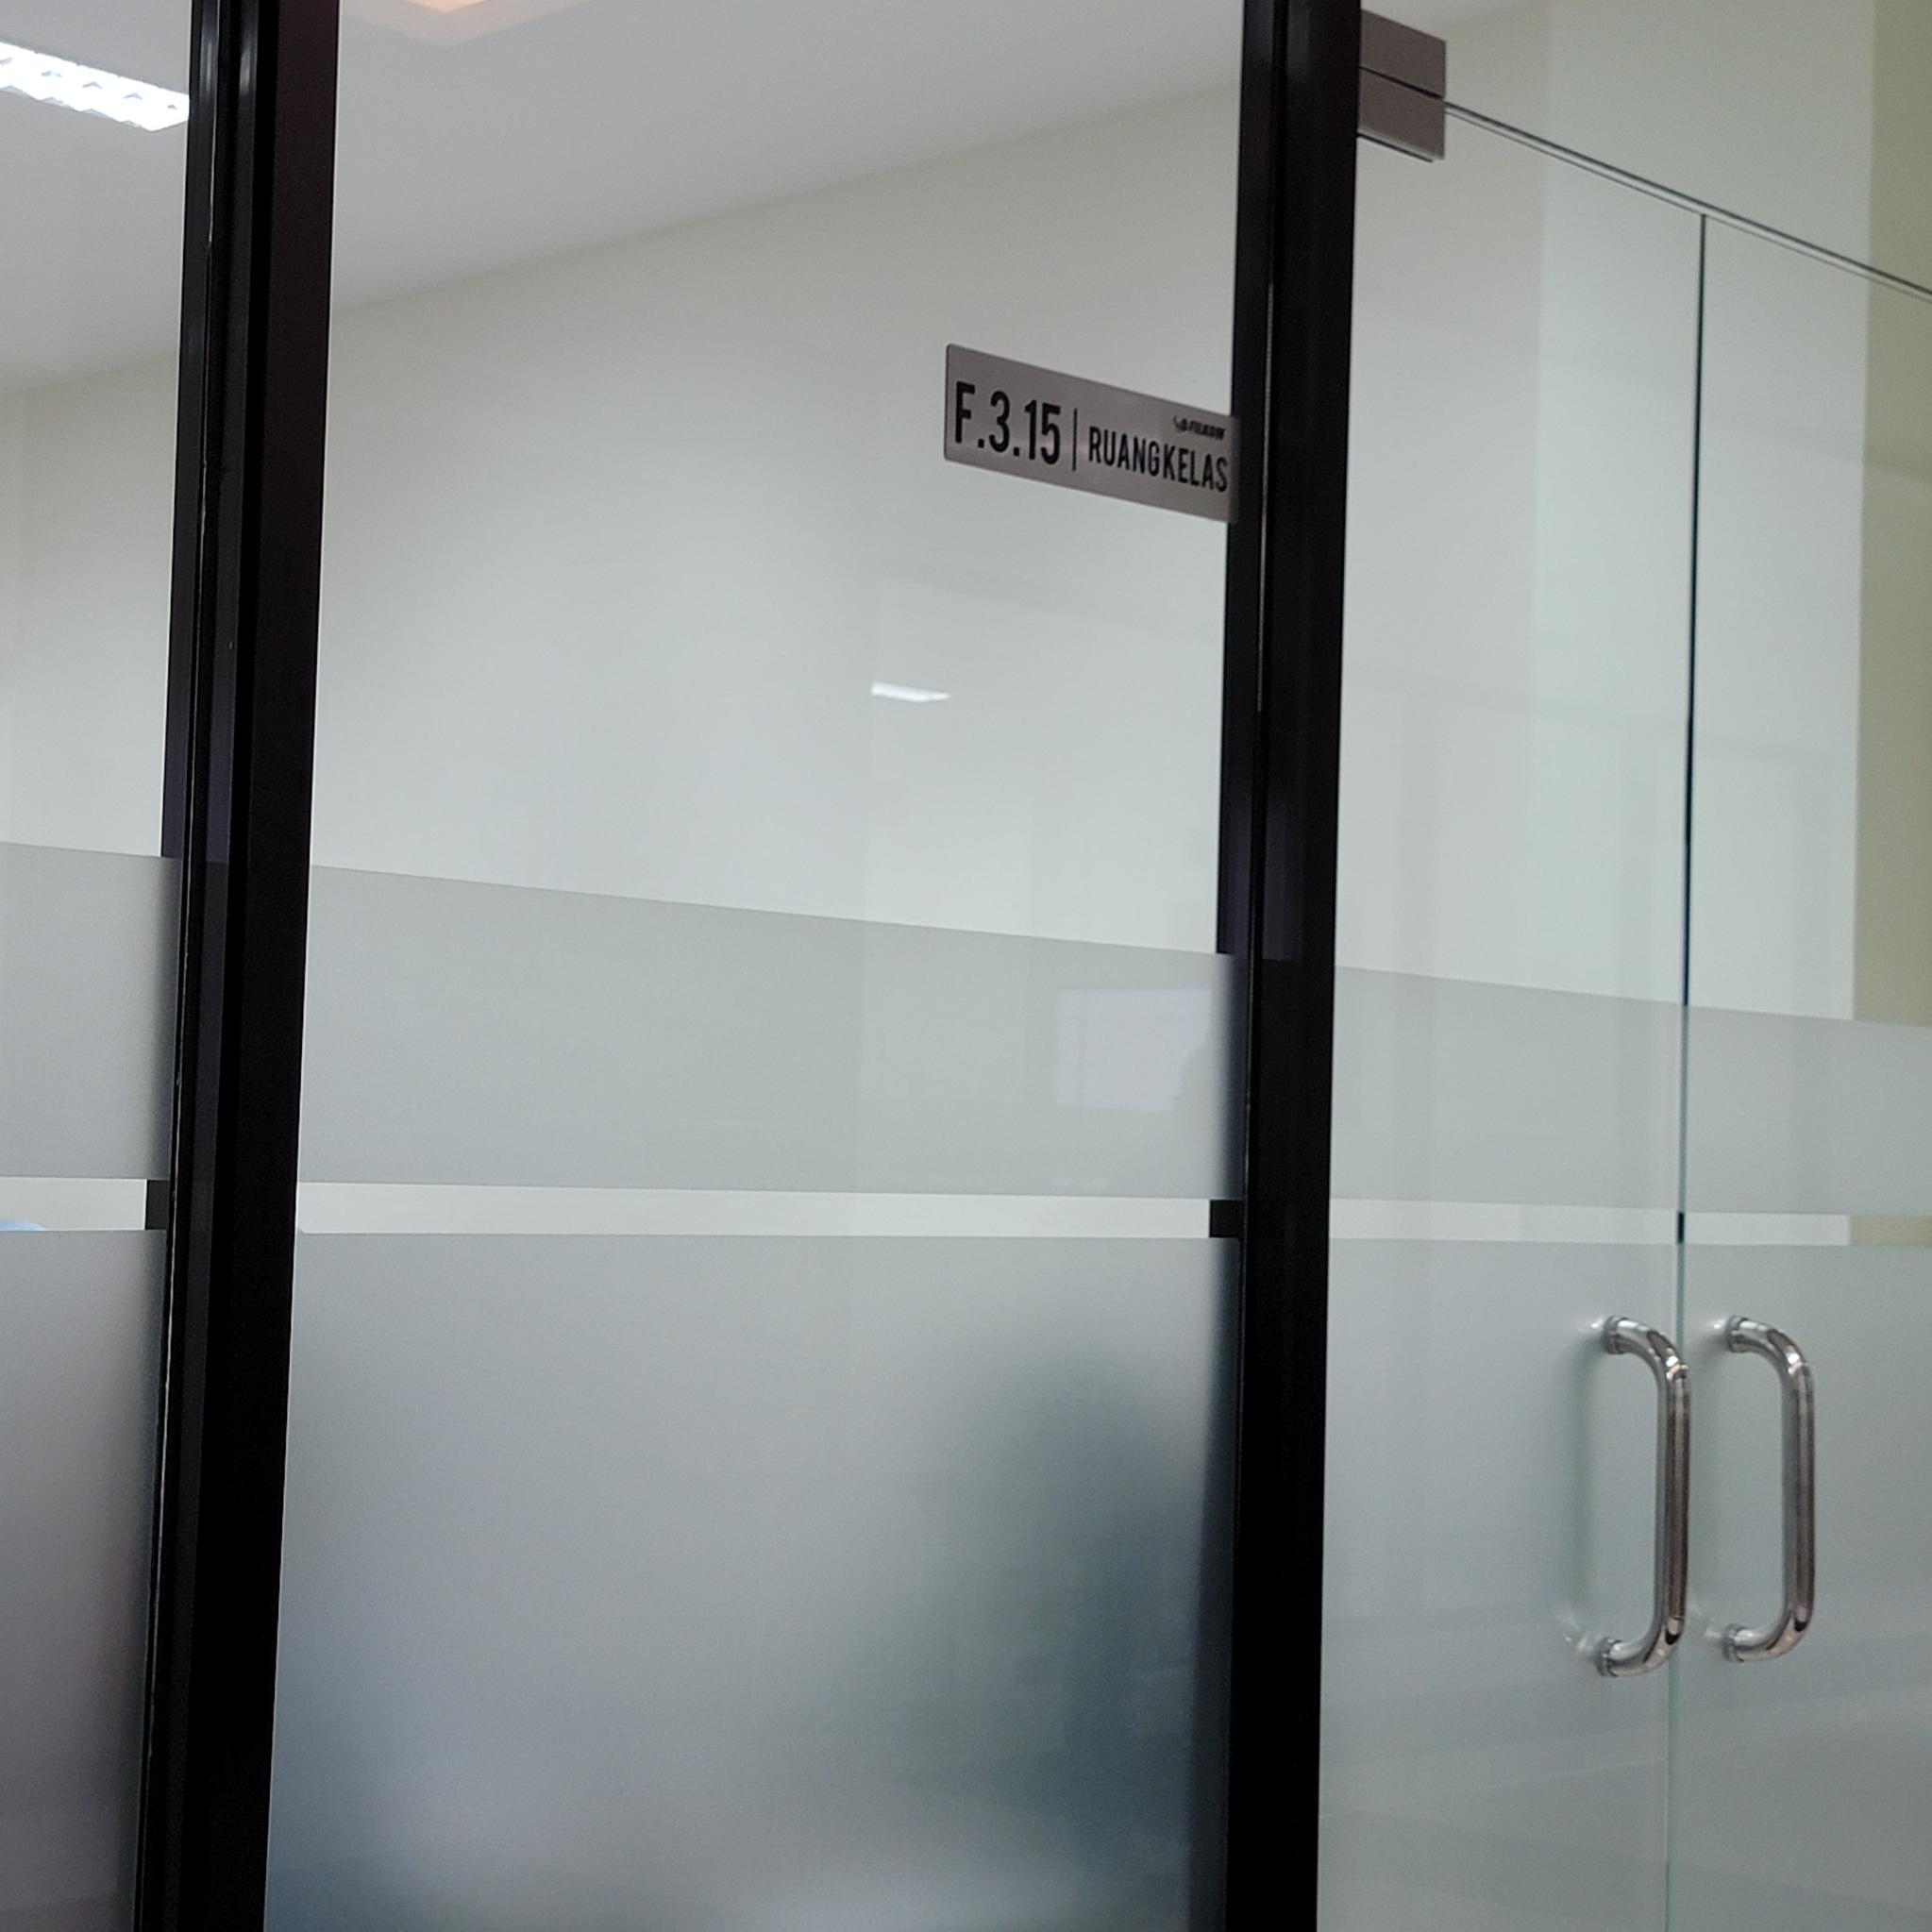plate: (945, 340, 1244, 527)
